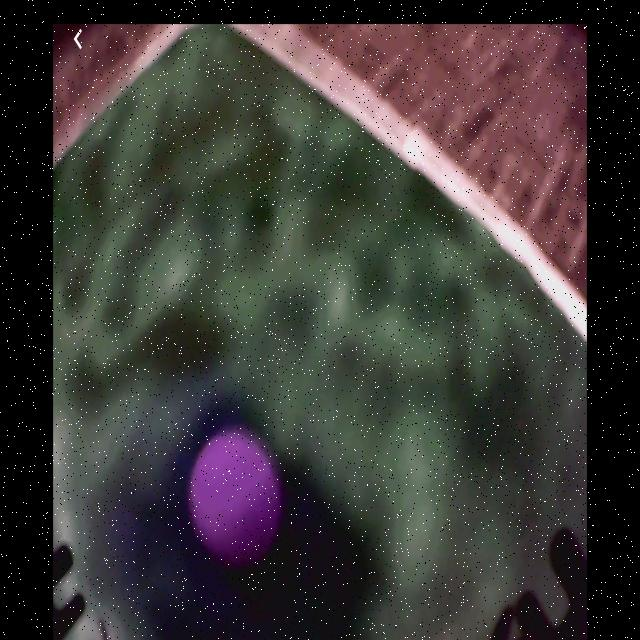ball: (192, 426, 281, 562)
